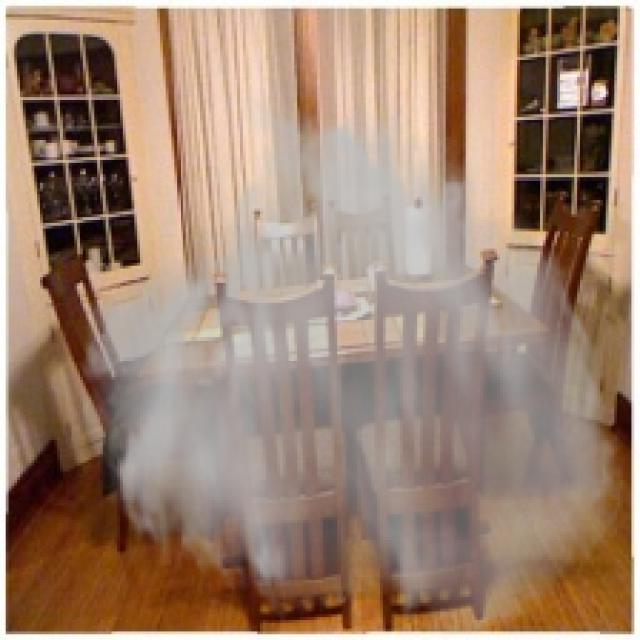smoke: (74, 86, 632, 637)
